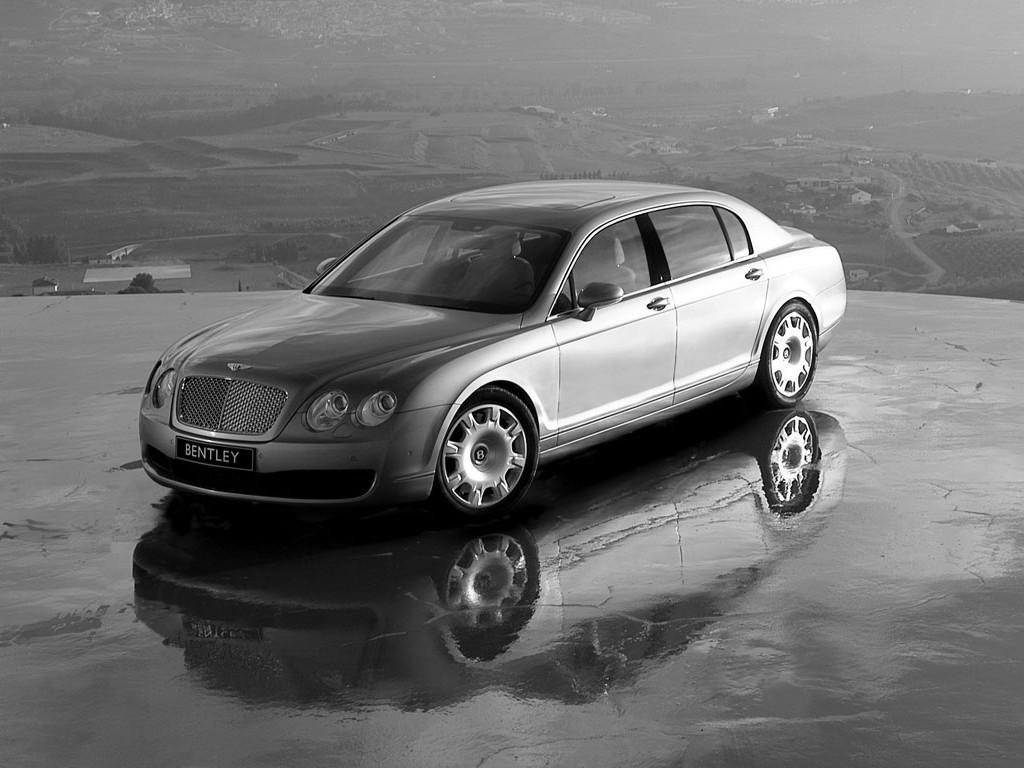car: (141, 181, 848, 523)
